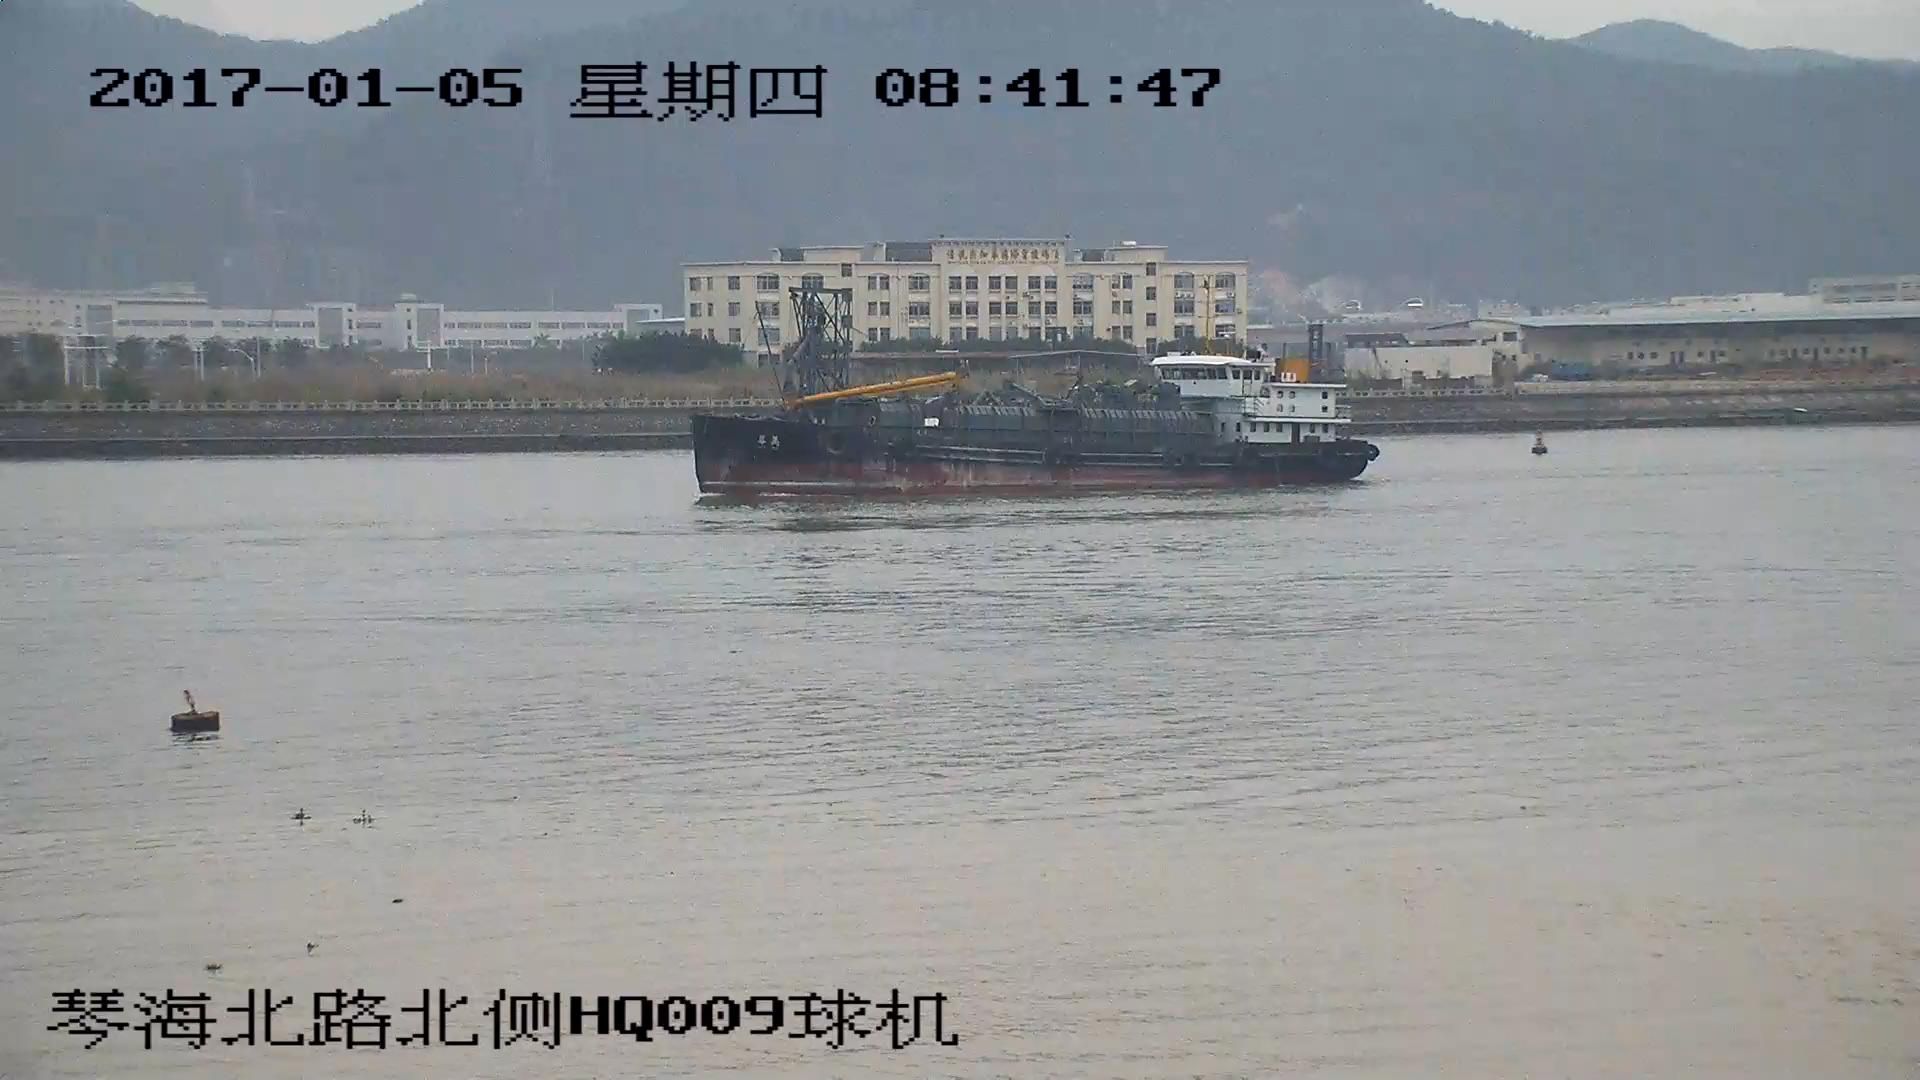bulk cargo carrier: (682, 294, 1375, 492)
